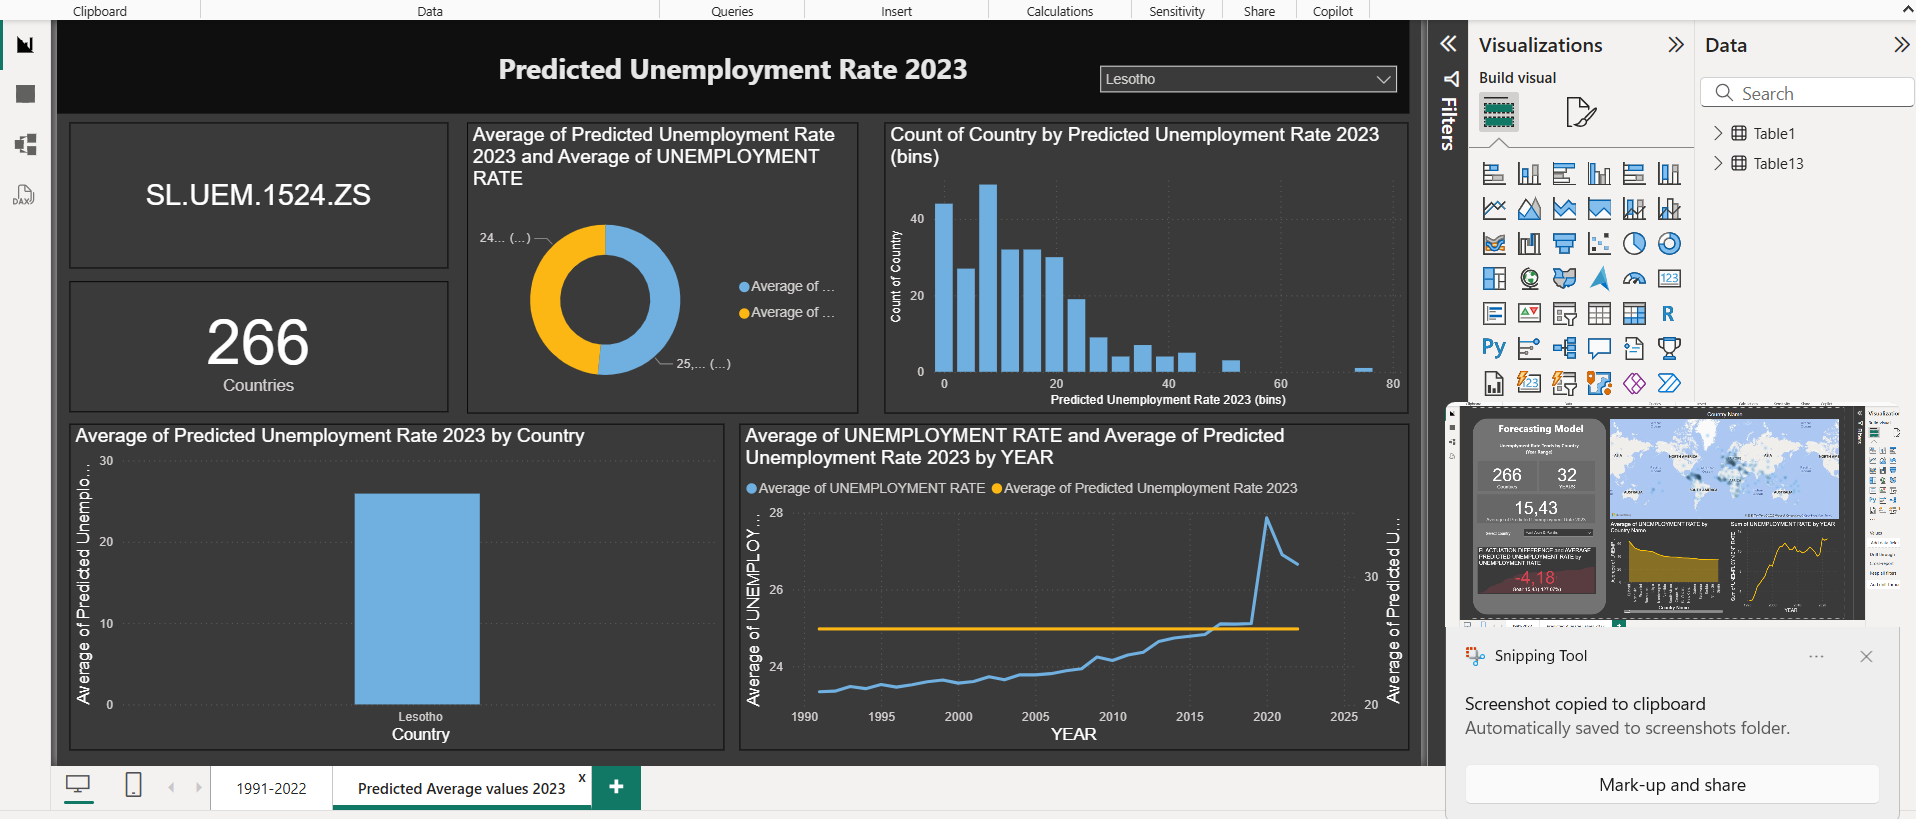

This screenshot's page, from the dashboard's own definition file:
{"tool":"powerbi","page":{"name":"Predicted Average values 2023","canvas":[1316,720],"ordinal":1},"visuals":[{"type":"clusteredColumnChart","fields":{"Category":["Table13.Country"],"Y":["Avg(Table13.Predicted Unemployment Rate 2023)"]},"box":[12.1,389.7,632.2,314.9],"z":0},{"type":"donutChart","fields":{"Y":["Avg(Table13.Predicted Unemployment Rate 2023)","Avg(Table1.Unemployment Rate)"]},"box":[395.5,98.5,377.6,280.6],"z":1000},{"type":"card","fields":{"Values":["Min(Table1.Indicator Code)"]},"box":[12.5,98.4,365.6,140.6],"z":2000},{"type":"actionButton","box":[0,0,1305.4,90.5],"z":3000},{"type":"lineClusteredColumnComboChart","fields":{"Category":["Table13.Predicted Unemployment Rate 2023 (bins)"],"Y":["CountNonNull(Table13.Country)"]},"box":[798.5,98.5,506,280.6],"z":4000},{"type":"card","fields":{"Values":["Table13.IgnoreSlicer"]},"box":[12.1,252.1,365.6,126.7],"z":5000},{"type":"slicer","fields":{"Values":["Table13.Country"]},"box":[996.5,33.8,306.4,73.6],"z":6000},{"type":"lineChart","fields":{"Category":["Table1.Year"],"Y":["Avg(Table1.Unemployment Rate)"],"Y2":["Avg(Table13.Predicted Unemployment Rate 2023)"]},"box":[658.2,389.6,646.3,314.9],"z":7000}]}

Visuals, with their boxes on the page's 1316x720 design canvas (x1, y1, x2, y2). These are canvas units, not pixel positions in the 1916x819 screenshot, which may show the page scaled, cropped or inside an application window:
clusteredColumnChart - Table13.Country x Avg(Table13.Predicted Unemployment Rate 2023): <bbox>12, 390, 644, 705</bbox>
donutChart - Avg(Table13.Predicted Unemployment Rate 2023) x Avg(Table1.Unemployment Rate): <bbox>396, 98, 773, 379</bbox>
card - Min(Table1.Indicator Code): <bbox>12, 98, 378, 239</bbox>
actionButton: <bbox>0, 0, 1305, 90</bbox>
lineClusteredColumnComboChart - Table13.Predicted Unemployment Rate 2023 (bins) x CountNonNull(Table13.Country): <bbox>798, 98, 1304, 379</bbox>
card - Table13.IgnoreSlicer: <bbox>12, 252, 378, 379</bbox>
slicer - Table13.Country: <bbox>996, 34, 1303, 107</bbox>
lineChart - Table1.Year x Avg(Table1.Unemployment Rate): <bbox>658, 390, 1304, 704</bbox>
